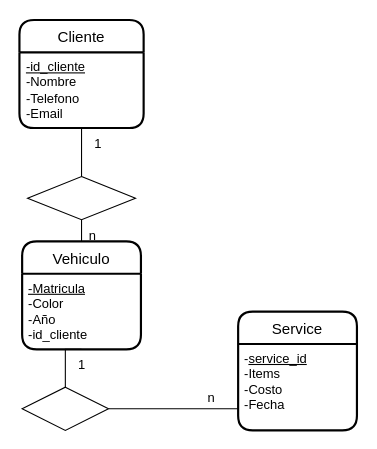
Image size: 377x449. Some labels were removed from this diagram. Each missing label, with the centre of its shape:
"Realiza" goes at (65,408).
"Tiene" goes at (81,198).
